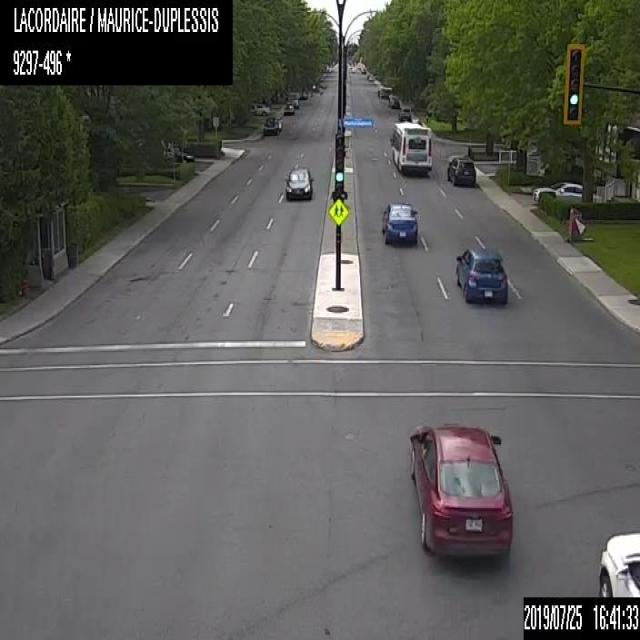bus: (391, 121, 432, 172)
vehicle: (406, 422, 512, 558), (455, 244, 507, 300), (596, 529, 639, 596), (530, 183, 594, 213), (379, 201, 416, 244), (284, 167, 314, 200), (448, 155, 476, 185), (164, 146, 194, 163), (263, 116, 282, 136), (249, 103, 269, 116), (399, 106, 410, 120), (287, 94, 298, 108), (283, 101, 293, 115), (389, 96, 399, 108)
